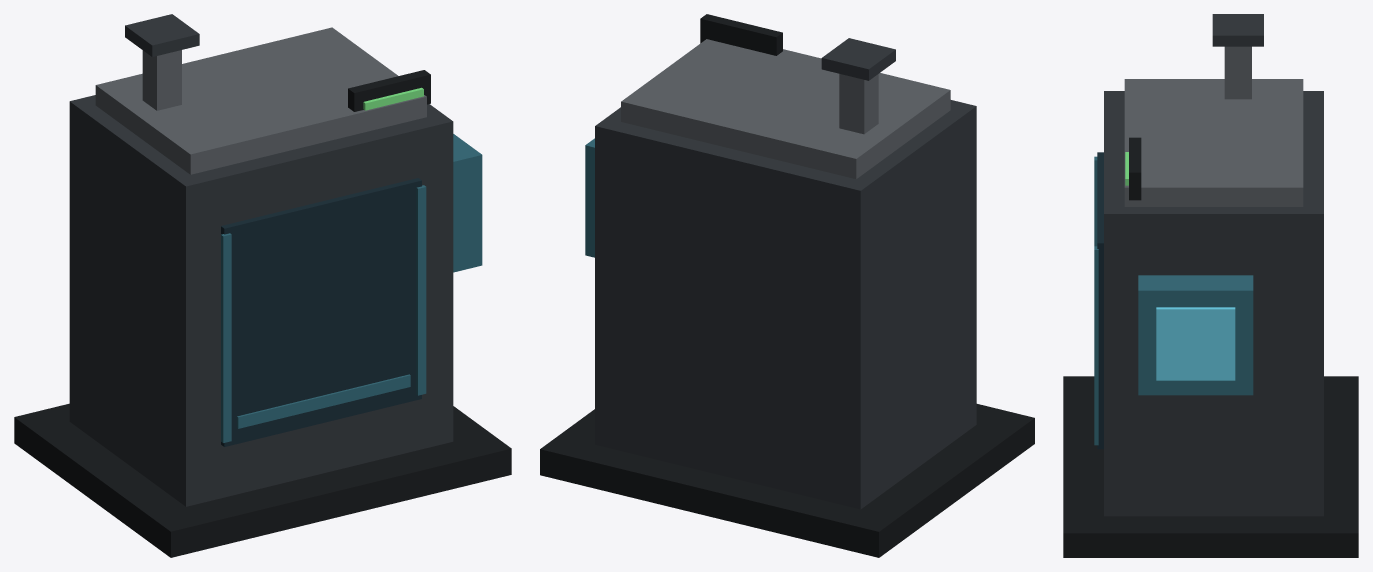
Rendered from printer.obj.
The picture shows the model from 3 angles, left to right: view 1: azimuth 30°, elevation 25°; view 2: azimuth 150°, elevation 25°; view 3: azimuth 270°, elevation 25°; orthographic projection. The views are drawn at different scales.
Parts seen in each view (by area): view 1: device_printer; view 2: device_printer; view 3: device_printer.
Boxes of the visible parts, x1,y1,x2,y2 form: device_printer: (14, 14, 511, 557); device_printer: (540, 14, 1034, 557); device_printer: (1063, 14, 1358, 557).
Size of the model in its own units: 2.56 by 3.02 by 1.95.
